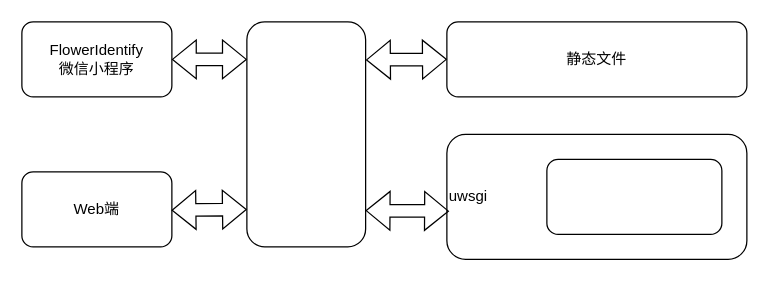
Image size: 769x281. Some labels were removed from this diagram. The shapes that lost their labels are listed below. From the top down, each one's centre as x and y in pixels, then its label:
pixel 306 134: Nginx
pixel 634 196: Django
